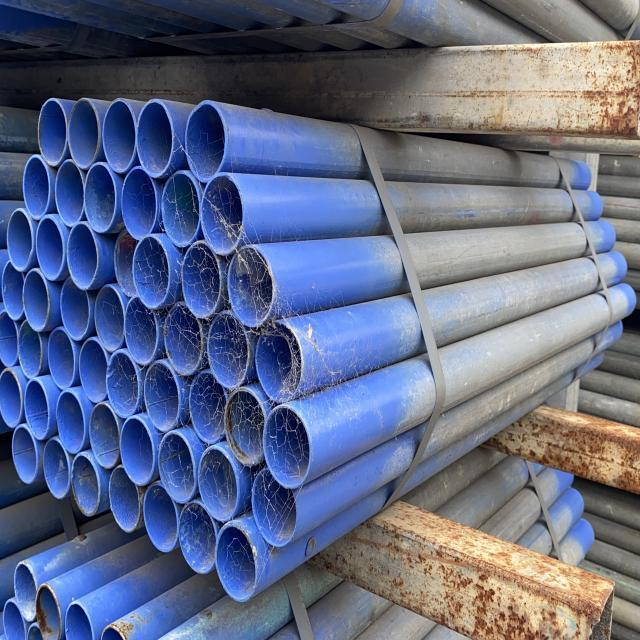pipe: (251, 320, 301, 406), (263, 404, 312, 488), (250, 463, 298, 547), (206, 314, 255, 395), (159, 303, 206, 385), (227, 248, 273, 331), (221, 389, 266, 469), (184, 100, 226, 185), (189, 357, 229, 446), (141, 467, 181, 556), (197, 446, 243, 523), (176, 498, 220, 578), (140, 362, 188, 434), (200, 176, 243, 256), (215, 523, 259, 601), (135, 99, 175, 183), (121, 165, 164, 243), (109, 454, 148, 536), (160, 173, 201, 250), (182, 245, 223, 322), (129, 234, 171, 309), (102, 97, 138, 181), (119, 417, 160, 490), (160, 431, 198, 509), (124, 297, 164, 371), (105, 351, 144, 423), (83, 156, 117, 236), (87, 400, 123, 474), (59, 266, 91, 349), (39, 433, 76, 503), (56, 150, 85, 236), (93, 285, 127, 358), (66, 221, 101, 290), (71, 451, 106, 518), (80, 336, 109, 415), (45, 327, 79, 392), (63, 103, 96, 169), (38, 97, 69, 167), (23, 263, 52, 337), (57, 388, 89, 454), (22, 155, 51, 220), (114, 230, 138, 306), (25, 377, 53, 442), (34, 218, 63, 280), (14, 319, 43, 381), (11, 427, 40, 488), (36, 580, 64, 640), (8, 206, 33, 270), (0, 367, 23, 433), (14, 563, 38, 625), (4, 264, 25, 323), (65, 597, 89, 640), (3, 597, 25, 640), (0, 303, 15, 365)
